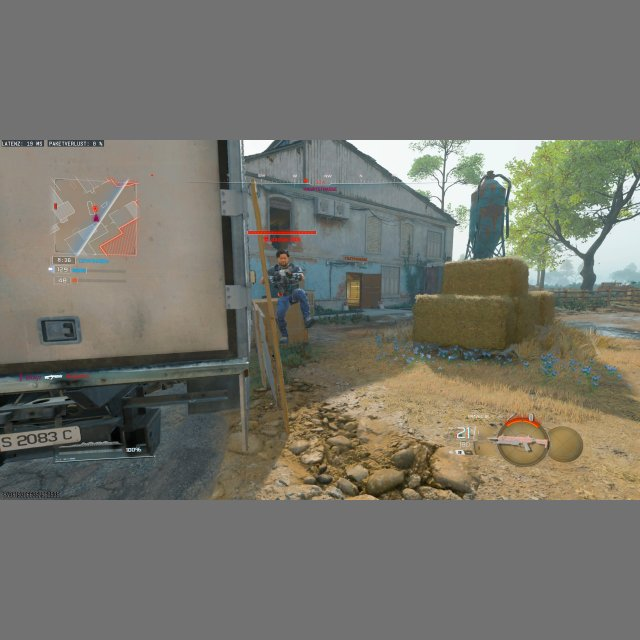head: (276, 250, 290, 266)
player: (268, 250, 305, 344)
